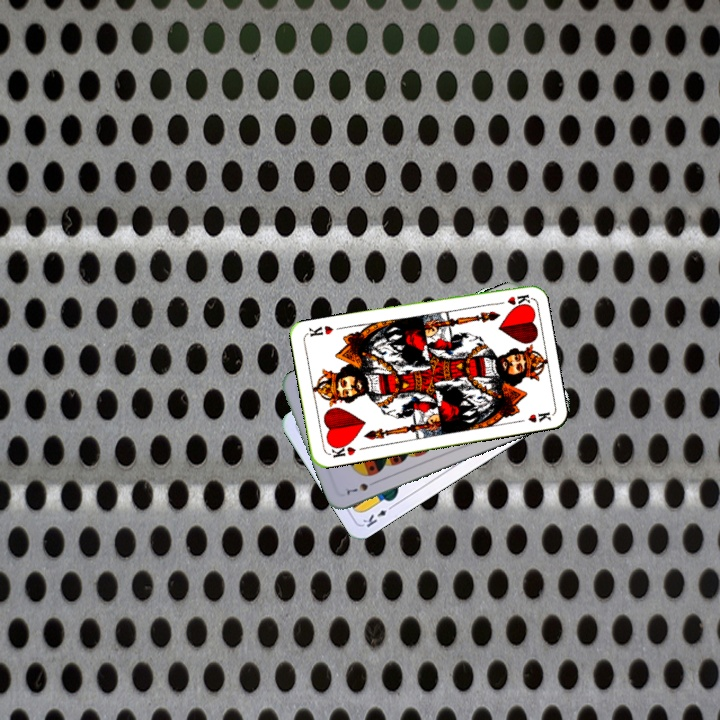EK: (359, 501, 397, 530)
HK: (491, 290, 532, 308), (325, 439, 358, 460)
S7: (342, 477, 380, 497)
